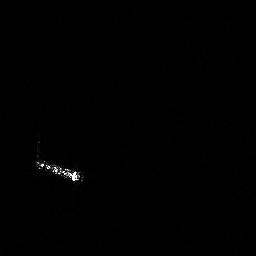ship: (35, 160, 80, 181)
